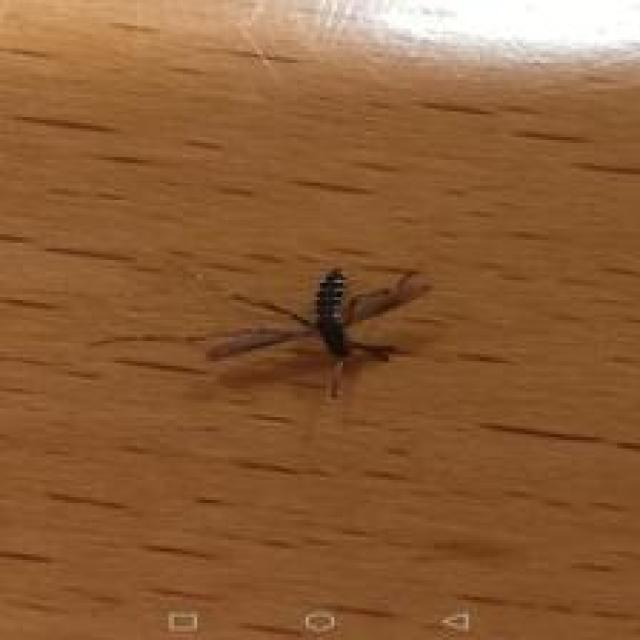Aedes albopictus: (204, 263, 433, 400)
